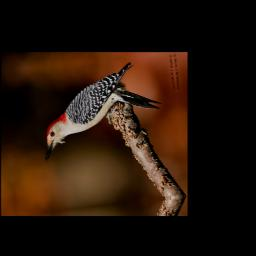Woodpecker: (35, 58, 168, 163)
